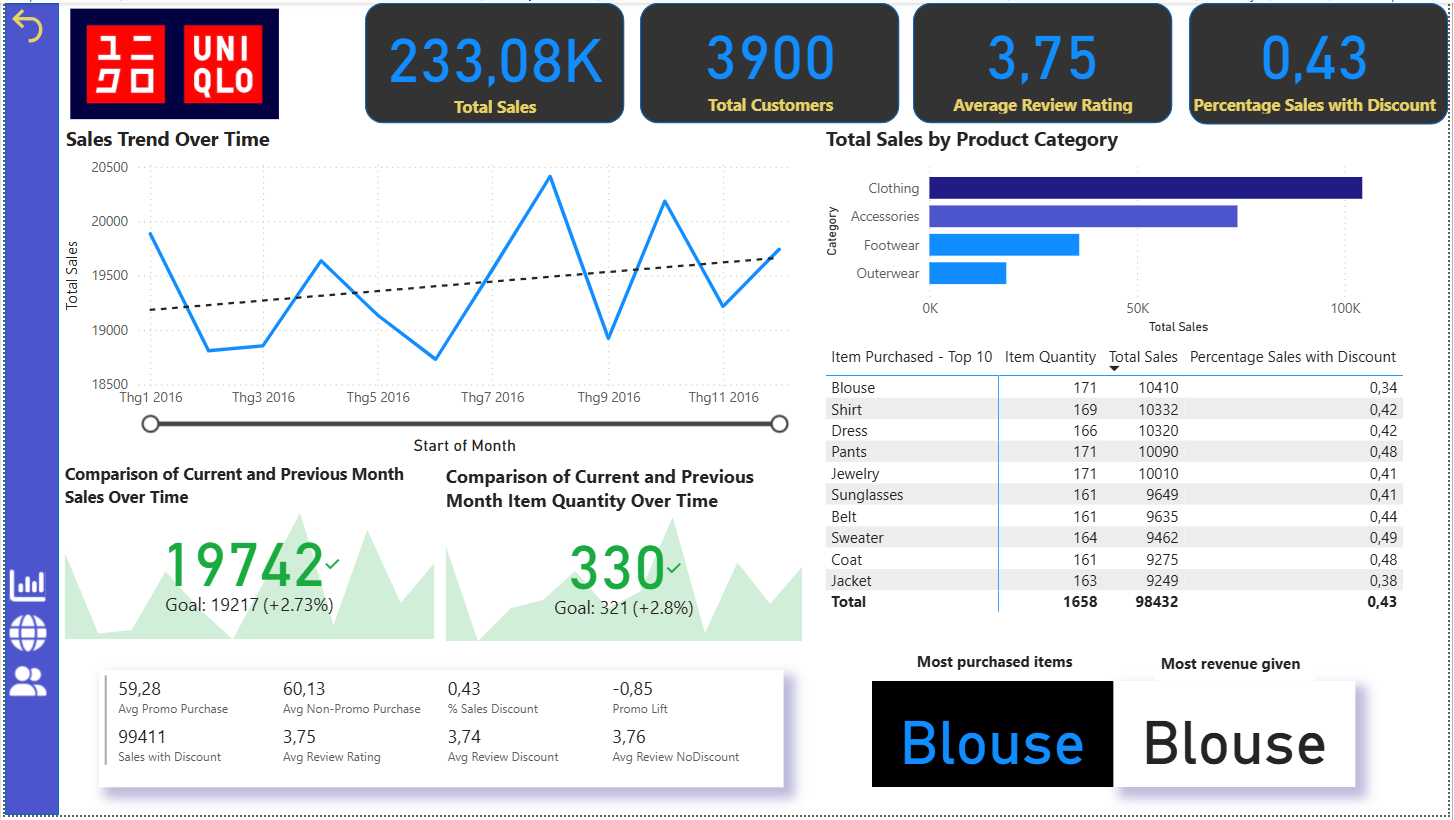

What the dashboard file says about the page in this screenshot:
{"tool":"powerbi","page":{"name":"Overview Dashboard","canvas":[1280,720],"ordinal":0},"visuals":[{"type":"actionButton","box":[0.2,496.7,47.8,40.1],"z":0,"group":"g1"},{"type":"shape","box":[318.9,0,230,106.7],"z":0},{"type":"shape","box":[563.3,0,230,106.7],"z":1000},{"type":"actionButton","box":[0,538.6,47.9,40.8],"z":1000,"group":"g1"},{"type":"shape","box":[805.6,0,230,106.7],"z":2000},{"type":"shape","box":[1050,0,230,107.8],"z":3000},{"type":"actionButton","box":[0,581.2,47.9,40.8],"z":3000,"group":"g1"},{"type":"card","fields":{"Values":["Measure Table (DAX).Total Customers"]},"box":[588.9,0,180,103.3],"z":4000},{"type":"card","fields":{"Values":["Measure Table (DAX).Total Sales"]},"box":[333.3,0,202.2,107.8],"z":5000},{"type":"card","fields":{"Values":["Measure Table (DAX).Average Review Rating"]},"box":[831.1,0,178.9,103.3],"z":6000},{"type":"card","fields":{"Values":["Measure Table (DAX).Percentage Sales with Discount"]},"box":[1046.7,0,230,103.3],"z":7000},{"type":"multiRowCard","fields":{"Values":["Measure Table (DAX).Avg Purchase with Promo","Measure Table (DAX).Avg Purchase without Promo","Measure Table (DAX).Percentage Sales with Discount","Measure Table (DAX).Promo Lift","Measure Table (DAX).Sales with Discount","Measure Table (DAX).Average Review Rating","Measure Table (DAX).Average Review Rating with Discount","Measure Table (DAX).Average Review Rating without Discount"]},"box":[83.3,591.4,606.5,103.7],"z":8000},{"type":"pivotTable","fields":{"Rows":["shopping_trends.Item Purchased"],"Values":["Measure Table (DAX).Quantity_of_items","Measure Table (DAX).Total Sales","Measure Table (DAX).Percentage Sales with Discount"]},"box":[722.7,297.9,557.7,251.8],"z":9000},{"type":"lineChart","title":"Sales Trend Over Time","fields":{"Category":["Calendar.Start_of_Month","Calendar.Date.Variation.Date Hierarchy.Year","Calendar.Date.Variation.Date Hierarchy.Quarter","Calendar.Date.Variation.Date Hierarchy.Month","Calendar.Date.Variation.Date Hierarchy.Day"],"Y":["Measure Table (DAX).Total Sales"]},"box":[48.8,108.2,674.8,297],"z":10000},{"type":"kpi","title":"Comparison of Current and Previous Month Sales Over Time","fields":{"Goal":["Measure Table (DAX).0.One_Previous_Month_Sales"],"Indicator":["Measure Table (DAX).0. Total_Sales"],"TrendLine":["Calendar.Start_of_Month"]},"box":[47.9,407,337.8,162.3],"z":11000},{"type":"clusteredBarChart","title":"Total Sales by Product Category","fields":{"Category":["shopping_trends.Category"],"Y":["Measure Table (DAX).Total Sales"]},"box":[722.2,107.8,557.8,190],"z":12000},{"type":"kpi","title":"Comparison of Current and Previous Month Item Quantity Over Time","fields":{"Indicator":["Measure Table (DAX).0. Quantity_of_items"],"Goal":["Measure Table (DAX).0. One_Previous_Month_Quantity_of_item"],"TrendLine":["Calendar.Start_of_Month"]},"box":[385.7,408.8,326.3,162.3],"z":13000},{"type":"card","fields":{"Values":["Min(shopping_trends.Item Purchased)"]},"box":[768.9,601.1,214.4,94.4],"z":14000},{"type":"textbox","box":[793.3,570,167.8,31.1],"z":15000},{"type":"card","fields":{"Values":["Min(shopping_trends.Item Purchased)"]},"box":[983.3,601.1,214.4,94.4],"z":16000},{"type":"textbox","box":[1019.5,571.5,141.9,29.2],"z":17000},{"type":"shape","title":"Menu","box":[0,0,47.9,720],"z":18000},{"type":"actionButton","box":[0,0,47.8,40],"z":19000},{"type":"group","id":"g1","title":"Navigation Buttons","box":[0,496.7,47.9,125.3],"z":20000},{"type":"image","box":[47.9,0,205.7,108.2],"z":21000}]}

Visuals, with their boxes on the page's 1280x720 design canvas (x1, y1, x2, y2). These are canvas units, not pixel positions in the 1454x820 screenshot, which may show the page scaled, cropped or inside an application window:
actionButton: box(0, 497, 48, 537)
shape: box(319, 0, 549, 107)
shape: box(563, 0, 793, 107)
actionButton: box(0, 539, 48, 579)
shape: box(806, 0, 1036, 107)
shape: box(1050, 0, 1280, 108)
actionButton: box(0, 581, 48, 622)
card - Measure Table (DAX).Total Customers: box(589, 0, 769, 103)
card - Measure Table (DAX).Total Sales: box(333, 0, 536, 108)
card - Measure Table (DAX).Average Review Rating: box(831, 0, 1010, 103)
card - Measure Table (DAX).Percentage Sales with Discount: box(1047, 0, 1277, 103)
multiRowCard - Measure Table (DAX).Avg Purchase with Promo x Measure Table (DAX).Avg Purchase without Promo: box(83, 591, 690, 695)
pivotTable - shopping_trends.Item Purchased x Measure Table (DAX).Quantity_of_items: box(723, 298, 1280, 550)
"Sales Trend Over Time" lineChart: box(49, 108, 724, 405)
"Comparison of Current and Previous Month Sales Over Time" kpi: box(48, 407, 386, 569)
"Total Sales by Product Category" clusteredBarChart: box(722, 108, 1280, 298)
"Comparison of Current and Previous Month Item Quantity Over Time" kpi: box(386, 409, 712, 571)
card - Min(shopping_trends.Item Purchased): box(769, 601, 983, 696)
textbox: box(793, 570, 961, 601)
card - Min(shopping_trends.Item Purchased): box(983, 601, 1198, 696)
textbox: box(1020, 572, 1161, 601)
"Menu" shape: box(0, 0, 48, 720)
actionButton: box(0, 0, 48, 40)
"Navigation Buttons" group: box(0, 497, 48, 622)
image: box(48, 0, 254, 108)
